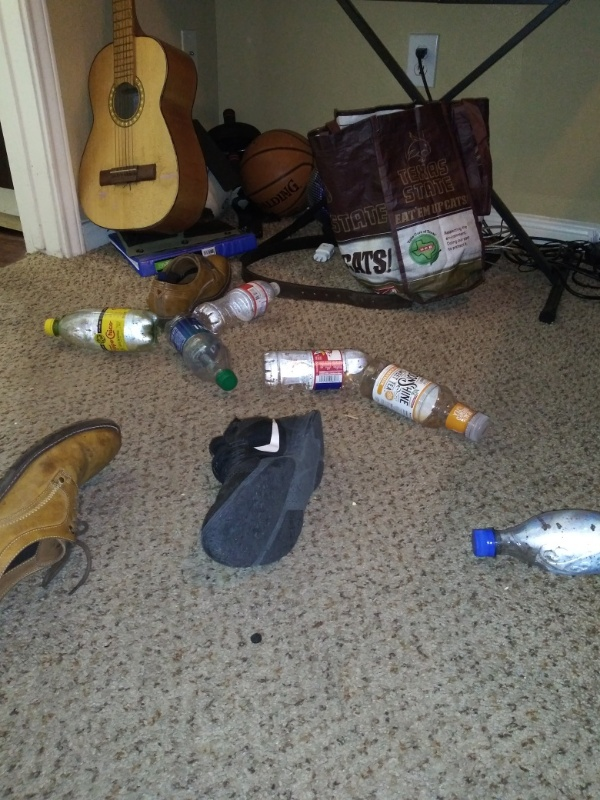bottle: (356, 355, 492, 447), (468, 503, 600, 586), (40, 305, 163, 359), (166, 311, 241, 397), (258, 344, 385, 394), (189, 276, 286, 337)
